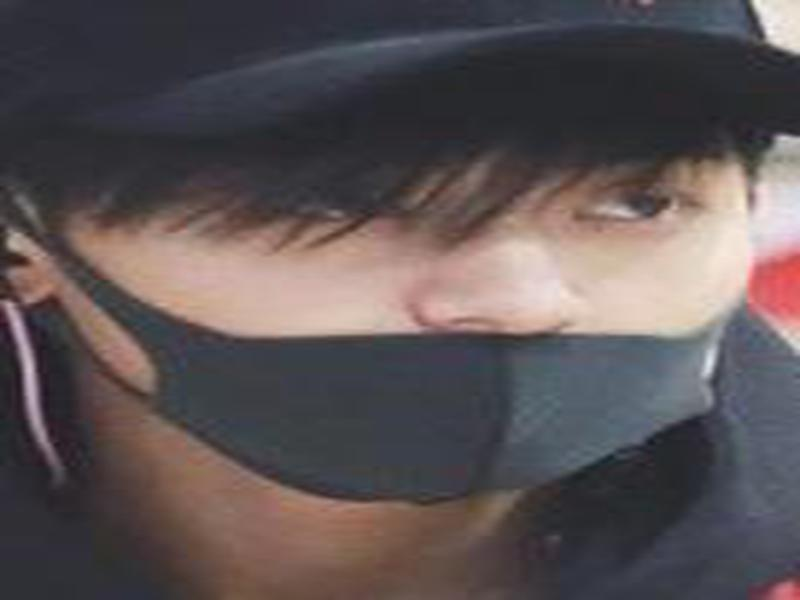with_mask: (1, 99, 755, 513)
